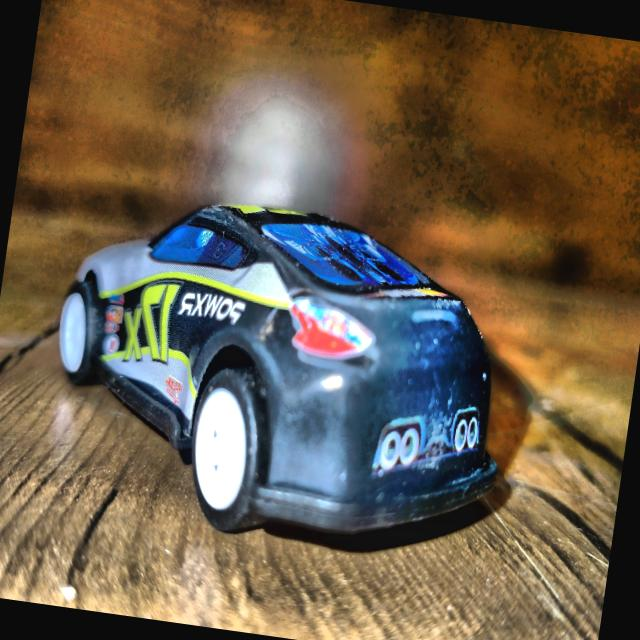Car: (36, 182, 528, 568)
